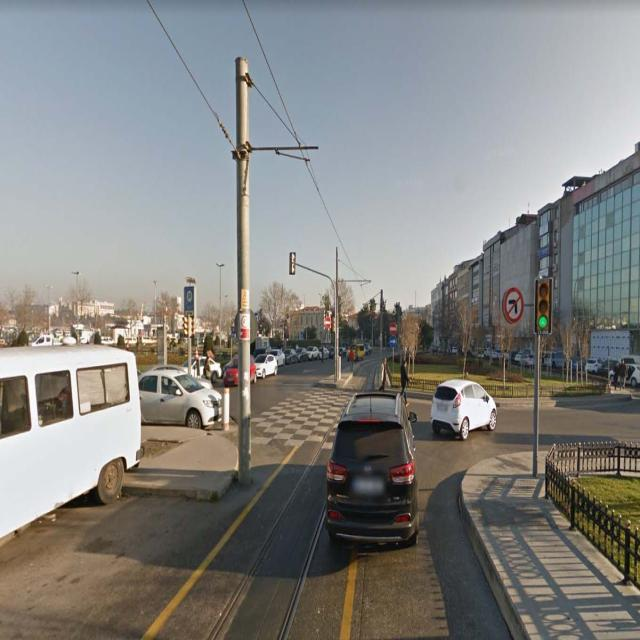girisyok: (389, 321, 397, 335), (325, 316, 331, 329)
sag: (389, 336, 397, 349)
soladonulmez: (505, 287, 523, 323)
yesil: (536, 278, 551, 335)
